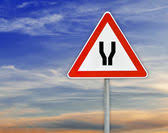Narrow_road: (66, 10, 149, 79)
